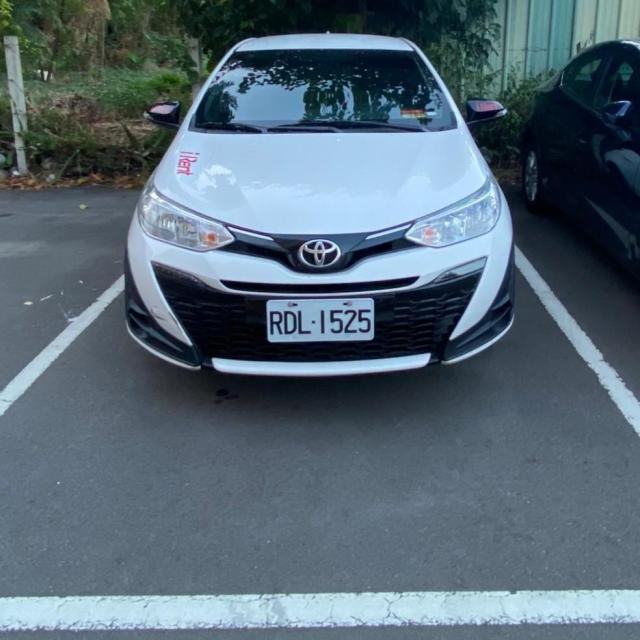W: (266, 296, 375, 342)
